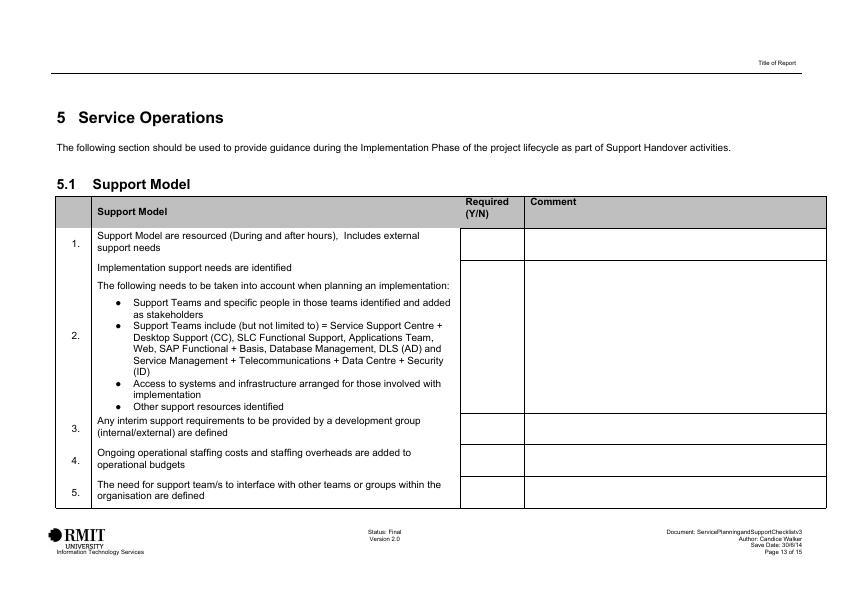table: (51, 195, 832, 513)
text: (52, 109, 736, 160), (661, 526, 810, 560), (54, 177, 195, 192), (366, 526, 405, 543)
